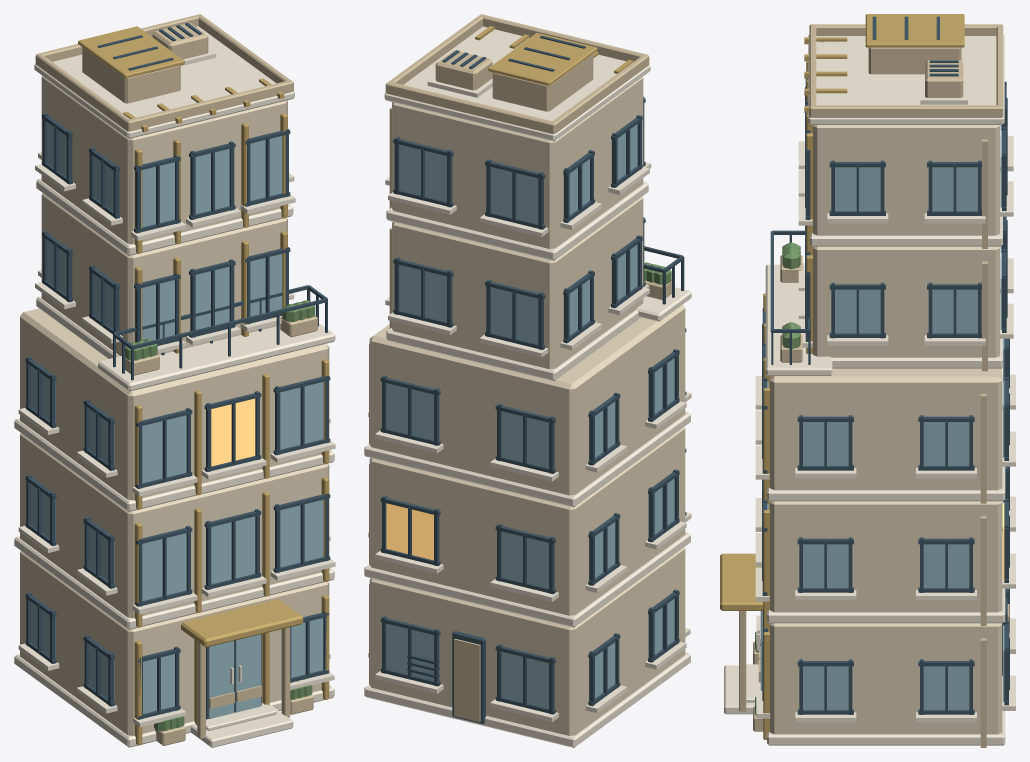
File: office-l05.glb
3 renders of one model, left to right at view 1: azimuth 30°, elevation 25°; view 2: azimuth 150°, elevation 25°; view 3: azimuth 270°, elevation 25°, orthographic. The views are drawn at different scales.
Parts seen in each view (by area): view 1: office_L05; view 2: office_L05; view 3: office_L05.
Boxes of the visible parts, x1,y1,x2,y2 form: office_L05: (14,14,335,747); office_L05: (364,14,691,747); office_L05: (720,14,1015,747).
Bounding box in the file's own units: 4.62 × 12.38 × 5.09.
